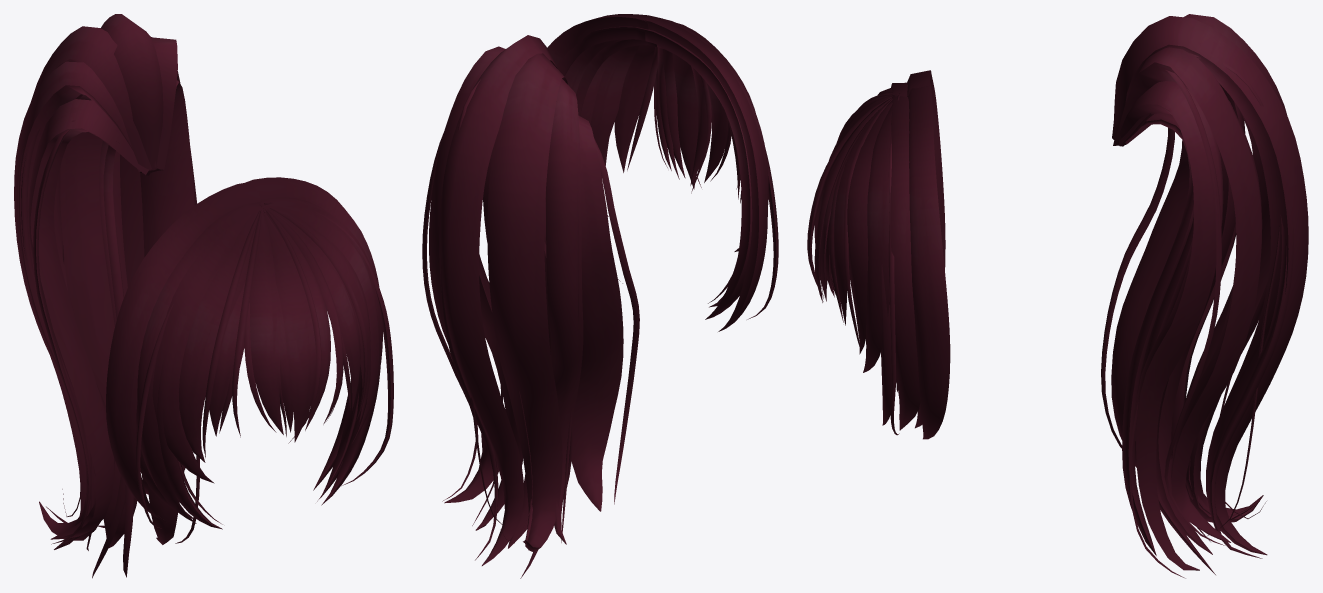
The model's file is vroid_hair6.glb.
The picture shows the model from 3 angles, left to right: view 1: azimuth 30°, elevation 25°; view 2: azimuth 150°, elevation 25°; view 3: azimuth 270°, elevation 25°; orthographic projection. The views are drawn at different scales.
Visible parts, largest first — view 1: hair; view 2: hair; view 3: hair.
Part boxes in pixels (x1,y1,x2,y2): hair: (14,14,393,578); hair: (422,14,778,578); hair: (807,14,1308,578).
Bounding box in the file's own units: 0.1957 × 0.3994 × 0.32.
1 material, 1 textured.
